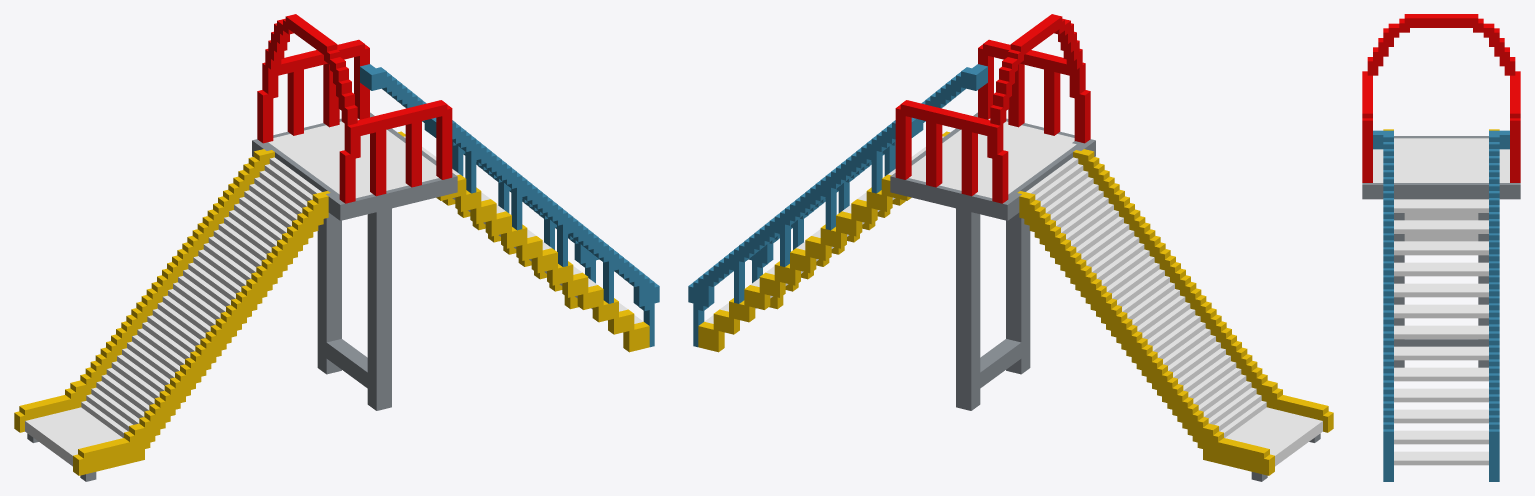
File: slide.fbx
3 views of the same model, side by side, from view 1: azimuth 30°, elevation 25°; view 2: azimuth 150°, elevation 25°; view 3: azimuth 270°, elevation 25° (orthographic). The views are drawn at different scales.
Visible parts, largest first — view 1: slide; view 2: slide; view 3: slide.
Boxes of the visible parts, x1,y1,x2,y2 form: slide: [14, 14, 659, 481]; slide: [688, 14, 1333, 481]; slide: [1362, 14, 1520, 481].
Size of the model in its own units: 2.65 by 1.6 by 0.6975.
1 material, 1 textured.
